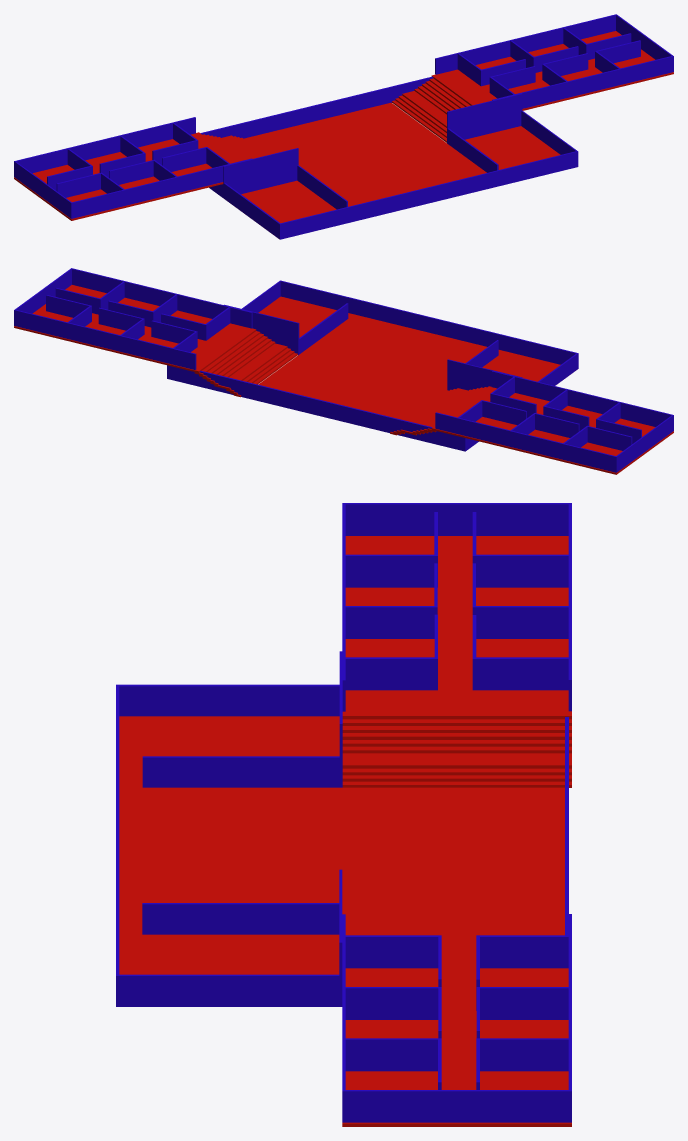
Rendered from CenarioTeste.fbx.
The picture shows the model from 3 angles, top to bottom: view 1: azimuth 30°, elevation 25°; view 2: azimuth 150°, elevation 25°; view 3: azimuth 270°, elevation 25°; orthographic projection. The views are drawn at different scales.
Visible parts, largest first — view 1: Cube; view 2: Cube; view 3: Cube.
Part boxes in pixels (left/top/right/bottom): Cube: left=14, top=14, right=673, bottom=239; Cube: left=14, top=268, right=673, bottom=474; Cube: left=116, top=503, right=571, bottom=1126.
Size of the model in its own units: 8005 by 409 by 2625.
